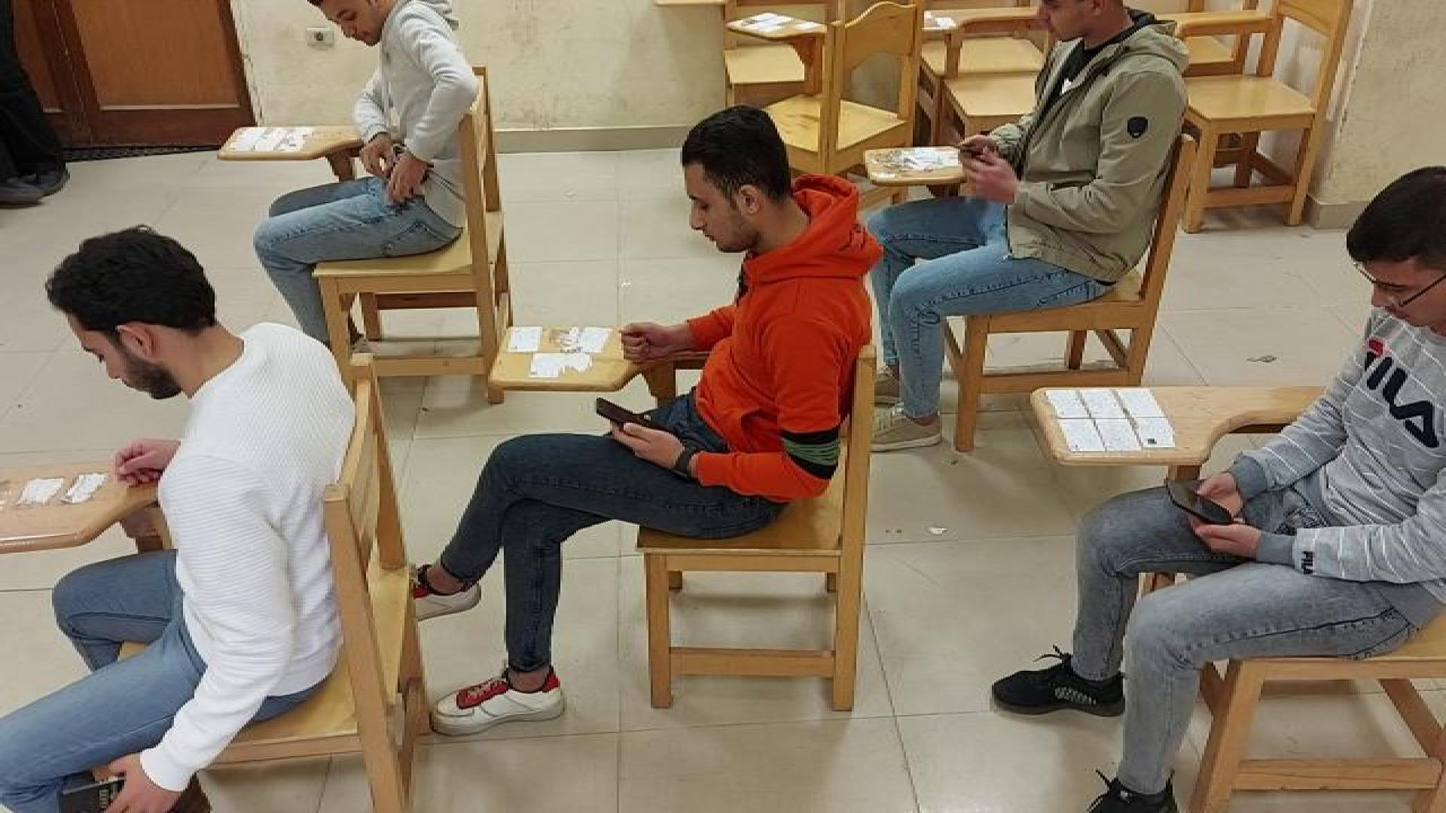phone: (1162, 475, 1237, 527), (58, 773, 128, 810), (593, 396, 663, 432)
